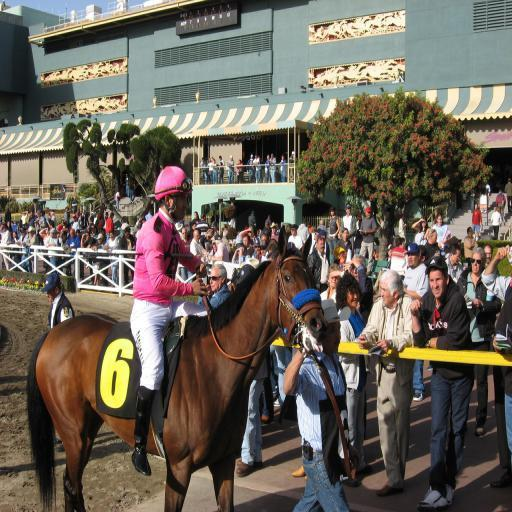horse: (25, 227, 328, 512)
